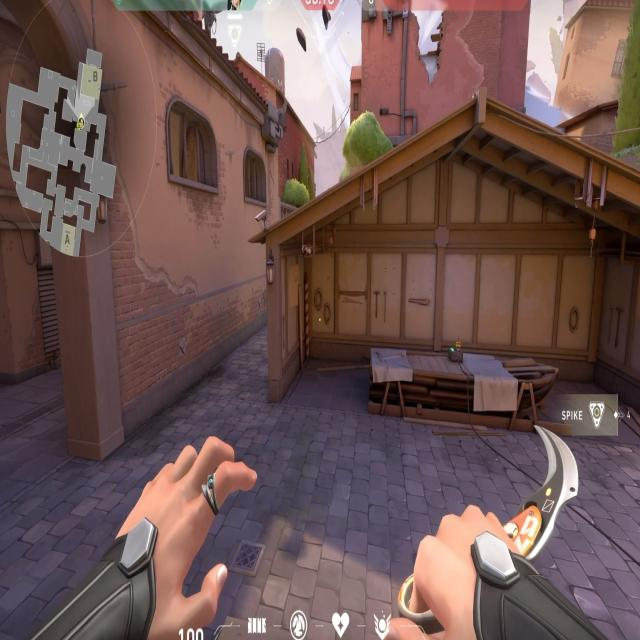B_Garage_Left: (264, 238, 384, 407)
B_Garage_Right: (539, 234, 640, 413)
Throwables: (163, 92, 222, 194), (243, 144, 268, 208)
